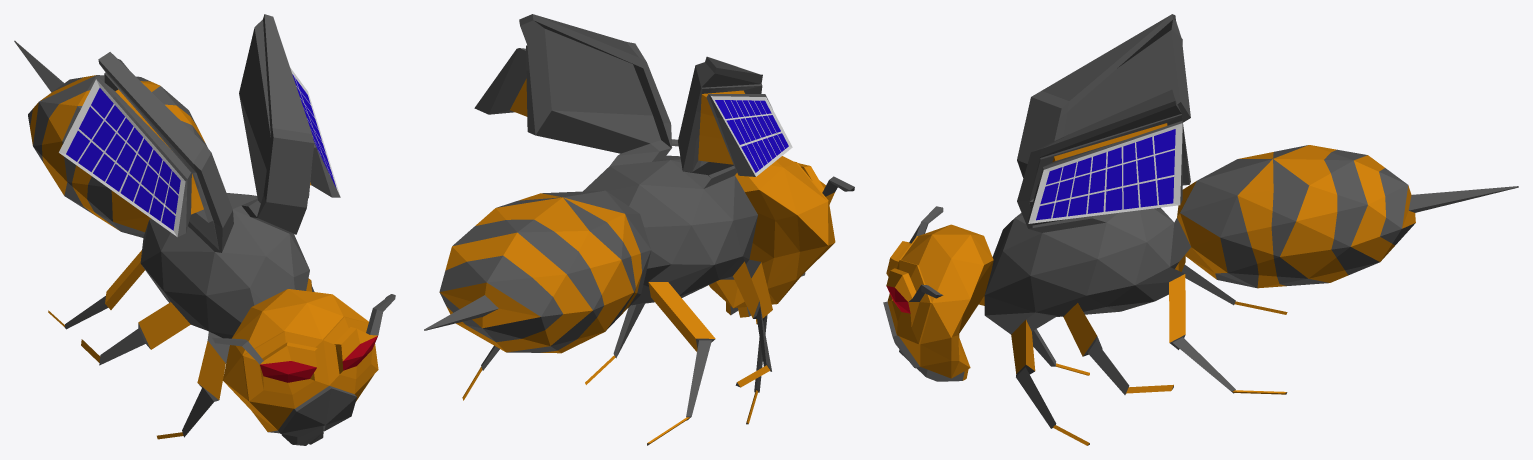
File: Hornet.fbx
The picture shows the model from 3 angles, left to right: view 1: azimuth 30°, elevation 25°; view 2: azimuth 150°, elevation 25°; view 3: azimuth 270°, elevation 25°; orthographic projection. The views are drawn at different scales.
Parts seen in each view (by area): view 1: Icosphere; view 2: Icosphere; view 3: Icosphere.
Boxes of the visible parts, bbox=[...] form: Icosphere: bbox=[14, 14, 395, 445]; Icosphere: bbox=[424, 14, 854, 445]; Icosphere: bbox=[883, 14, 1518, 445].
Bounding box in the file's own units: 373 × 512 × 822.
